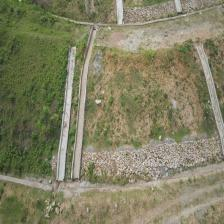rock toe: (81, 137, 224, 175), (124, 0, 176, 23)
slope drain: (71, 26, 99, 181), (195, 41, 224, 156), (56, 46, 77, 182)
